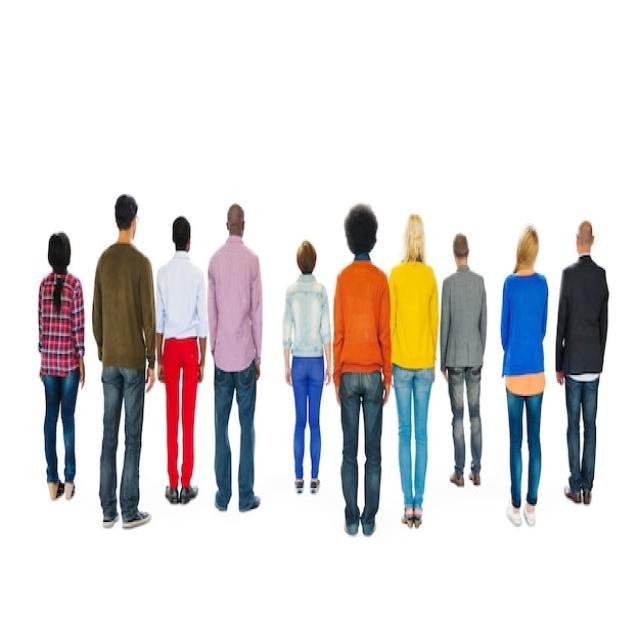adult: (92, 194, 157, 532), (332, 202, 393, 540), (207, 203, 263, 514), (554, 221, 610, 508), (390, 210, 440, 531), (500, 223, 550, 525), (156, 213, 207, 509), (282, 238, 333, 494), (36, 233, 84, 503), (439, 232, 487, 491)
